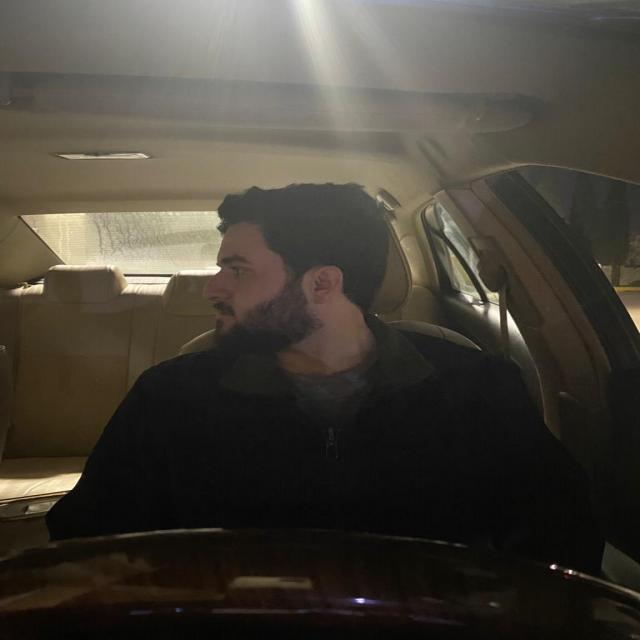LeftRight: (197, 178, 407, 385)
